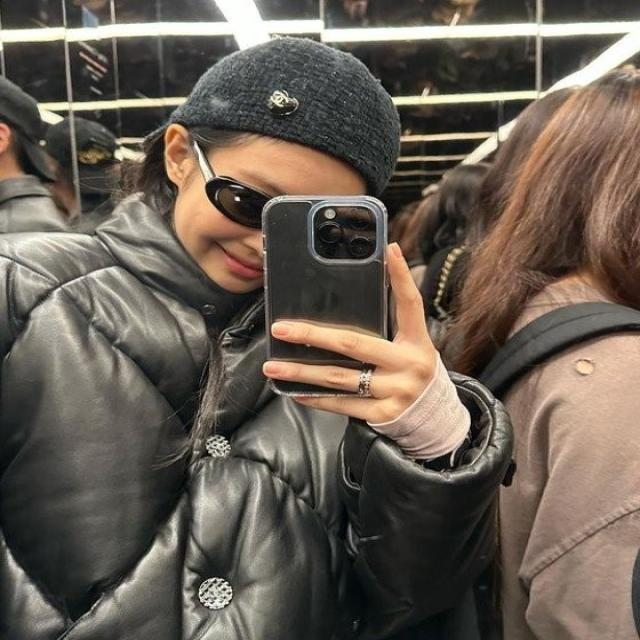phone: (261, 195, 387, 398)
